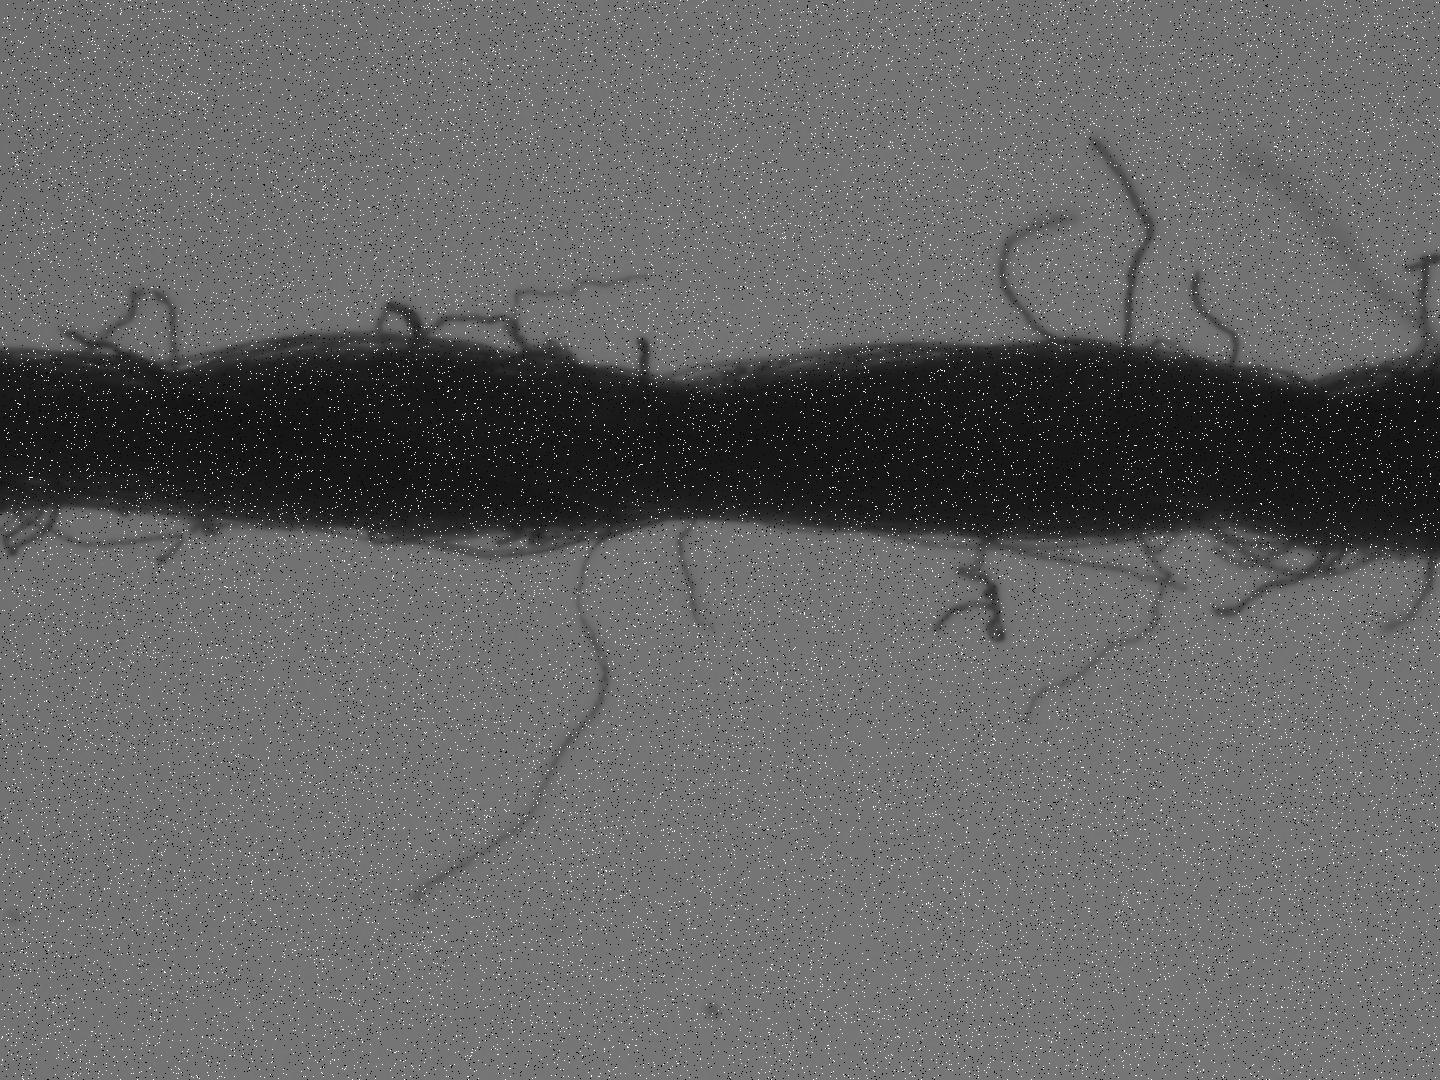loop_fiber: (683, 337, 962, 386), (397, 512, 659, 559), (1203, 524, 1387, 584), (413, 311, 535, 355), (380, 298, 426, 354), (1246, 361, 1315, 395), (526, 339, 584, 366)
protruding_fiber: (1093, 137, 1155, 352), (993, 214, 1074, 339), (1213, 539, 1330, 623), (1191, 271, 1240, 372), (674, 514, 708, 628), (150, 287, 186, 366), (634, 338, 654, 382)
